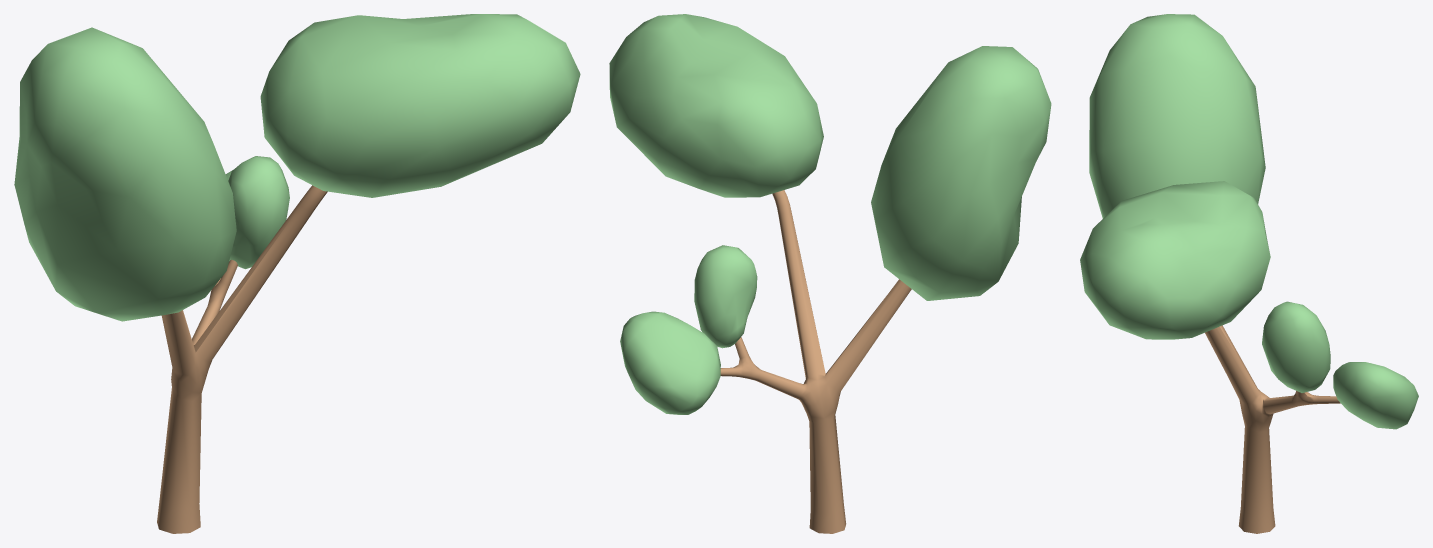
The model's file is Tree B.fbx.
The picture shows the model from 3 angles, left to right: view 1: azimuth 30°, elevation 25°; view 2: azimuth 150°, elevation 25°; view 3: azimuth 270°, elevation 25°; orthographic projection. The views are drawn at different scales.
Parts seen in each view (by area): view 1: Tree B; view 2: Tree B; view 3: Tree B.
Boxes of the visible parts, left/top/right/bottom form: Tree B: left=14, top=14, right=580, bottom=533; Tree B: left=609, top=14, right=1051, bottom=533; Tree B: left=1080, top=14, right=1418, bottom=533.
Bounding box in the file's own units: 297 × 302 × 206.
